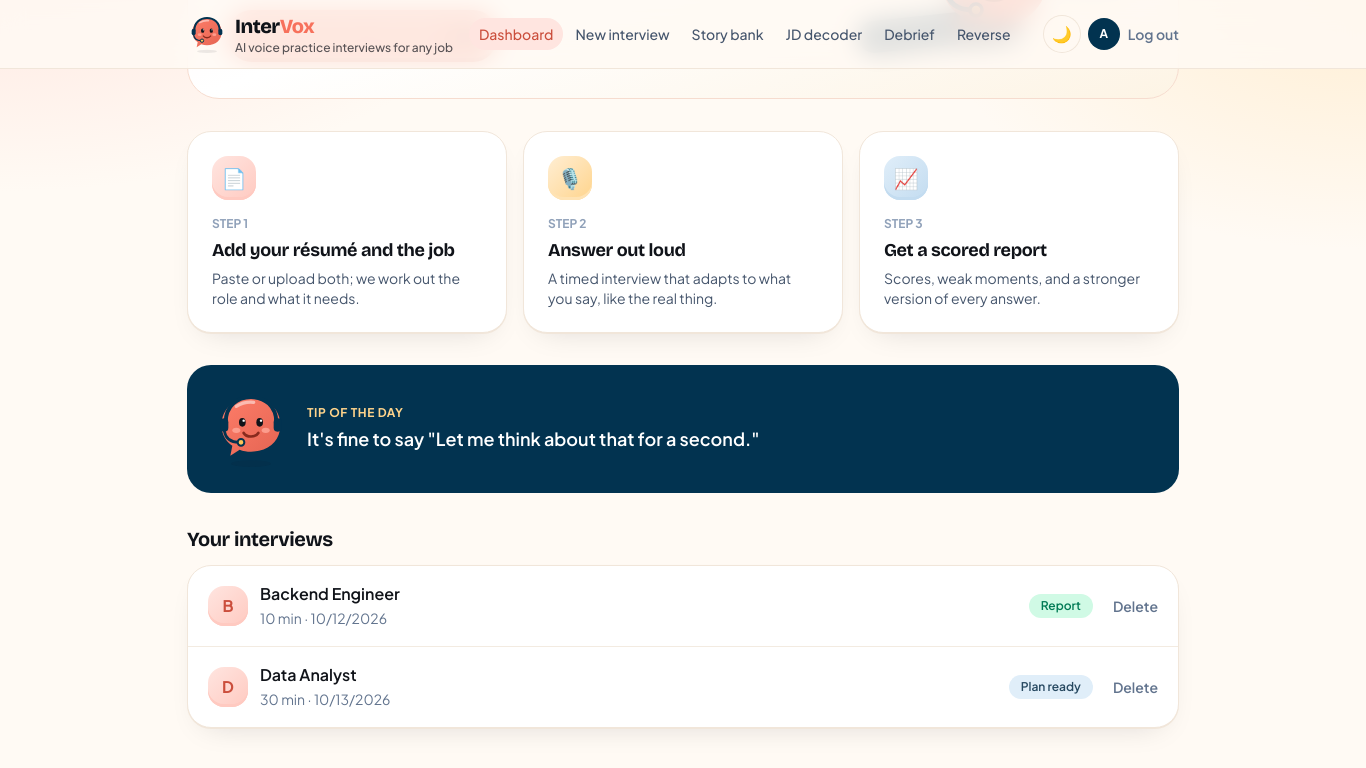
it: Dashboard interviews (T-136, T-137) › deletes once confirmed, then says so
The width and height of the screenshot is (1366, 768).
(page scrolled)
Click the button with aria-label "Delete the interview Backend Engineer" at (1135, 606), box [1093, 596, 1178, 616]
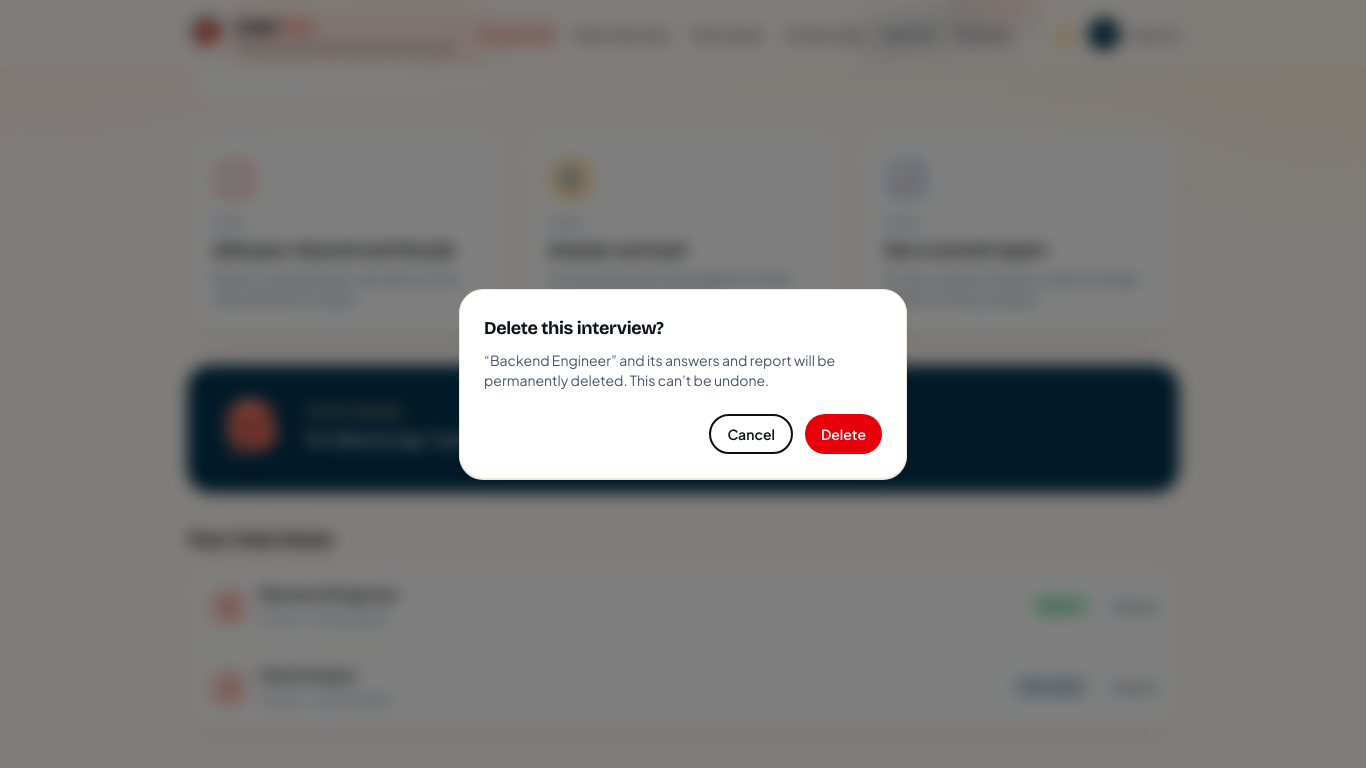
Click the button "Delete" at (843, 434), box [805, 414, 882, 454]
(page scrolled)
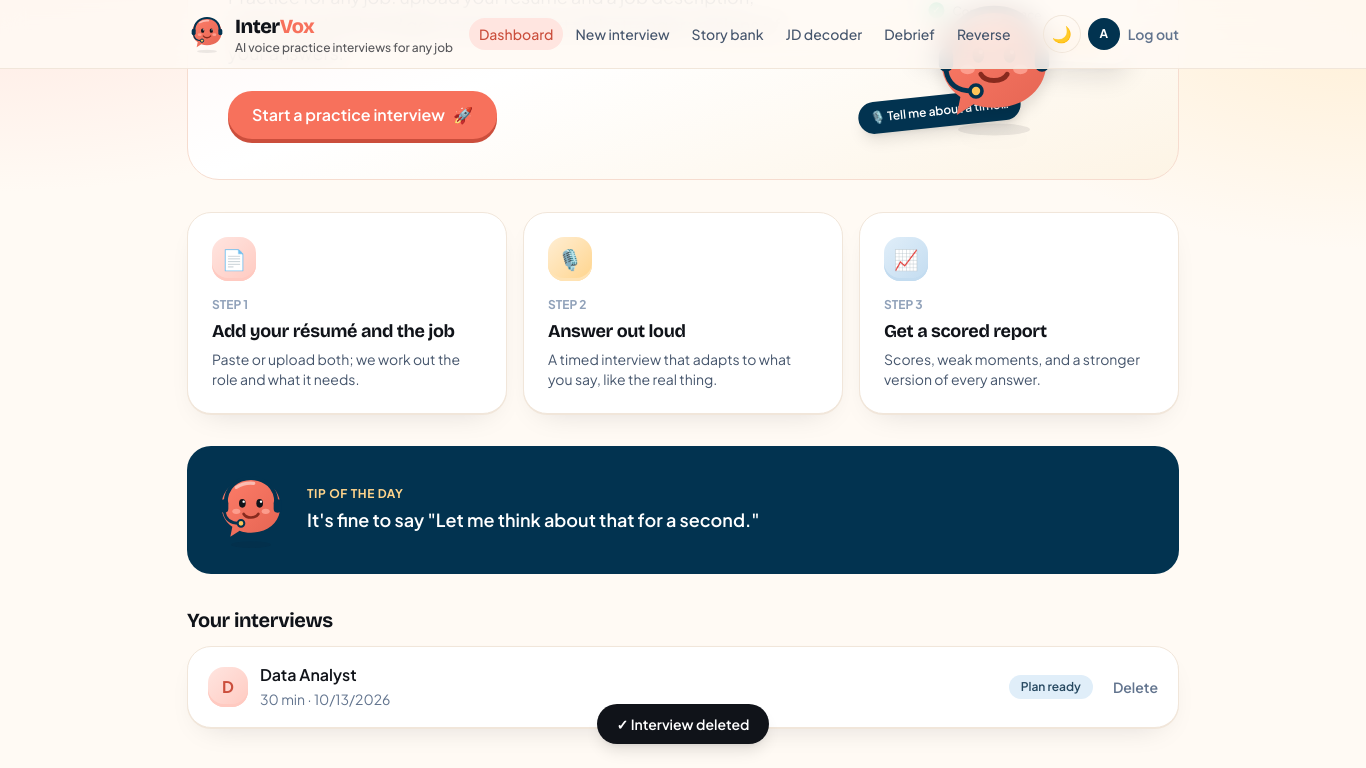
Now the link "Backend Engineer" is gone
Now the dialog is gone
Now the message shows "Interview deleted", box [631, 715, 750, 733]
